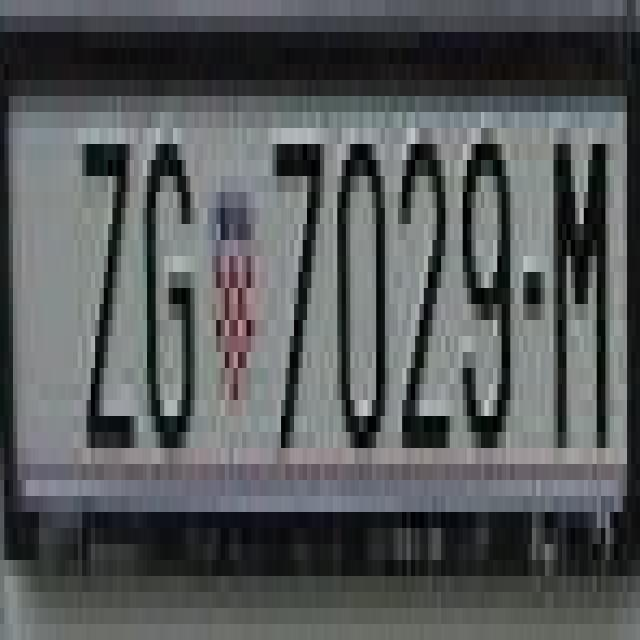0: (337, 144, 389, 448)
2: (398, 128, 454, 464)
7: (264, 112, 324, 464)
9: (458, 112, 511, 448)
G: (143, 144, 199, 448)
M: (536, 112, 614, 448)
Z: (74, 112, 142, 464)
